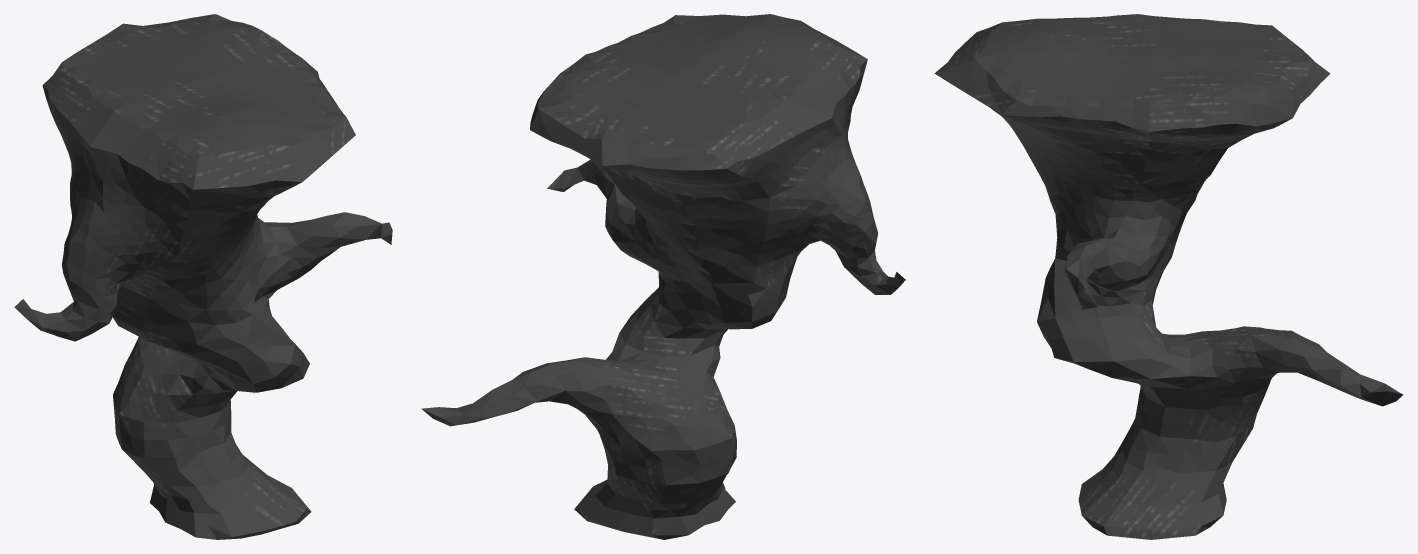
File: Kolonna1.fbx
The picture shows the model from 3 angles, left to right: view 1: azimuth 30°, elevation 25°; view 2: azimuth 150°, elevation 25°; view 3: azimuth 270°, elevation 25°; orthographic projection.
Parts seen in each view (by area): view 1: Cube.001_cell.015, Cube.001_cell.021, Cube.001_cell.020, Cube.001_cell.006, Cube.001_cell.016, Cube.001_cell.013, Cube.001_cell.002, Cube.001_cell.011, Cube.001_cell.028, Cube.001_cell.024, Cube.001_cell.010, Cube.001_cell.014 (+10 smaller); view 2: Cube.001_cell.020, Cube.001_cell.002, Cube.001_cell, Cube.001_cell.013, Cube.001_cell.012, Cube.001_cell.010, Cube.001_cell.029, Cube.001_cell.028, Cube.001_cell.019, Cube.001_cell.023, Cube.001_cell.014, Cube.001_cell.021 (+11 smaller); view 3: Cube.001_cell.020, Cube.001_cell.006, Cube.001_cell.019, Cube.001_cell.001, Cube.001_cell.026, Cube.001_cell.028, Cube.001_cell.016, Cube.001_cell.013, Cube.001_cell.014, Cube.001_cell.024, Cube.001_cell.023, Cube.001_cell.018 (+7 smaller).
Part boxes in pixels (box(x1,y1,x2,y2)): Cube.001_cell.015: box(59, 248, 241, 378); Cube.001_cell.021: box(107, 137, 228, 264); Cube.001_cell.020: box(113, 337, 254, 463); Cube.001_cell.006: box(234, 215, 344, 392); Cube.001_cell.016: box(188, 101, 276, 263); Cube.001_cell.013: box(85, 62, 232, 138); Cube.001_cell.002: box(63, 114, 130, 290); Cube.001_cell.011: box(147, 454, 237, 539); Cube.001_cell.028: box(138, 26, 293, 66); Cube.001_cell.024: box(268, 113, 355, 194); Cube.001_cell.010: box(42, 55, 146, 150); Cube.001_cell.014: box(231, 75, 343, 121); Cube.001_cell.020: box(476, 283, 736, 503); Cube.001_cell.002: box(766, 95, 875, 261); Cube.001_cell: box(633, 227, 793, 329); Cube.001_cell.013: box(672, 47, 816, 124); Cube.001_cell.012: box(628, 174, 772, 249); Cube.001_cell.010: box(661, 108, 790, 194); Cube.001_cell.029: box(595, 113, 739, 191); Cube.001_cell.028: box(552, 58, 672, 128); Cube.001_cell.019: box(574, 445, 692, 539); Cube.001_cell.023: box(530, 80, 611, 152); Cube.001_cell.014: box(628, 19, 737, 62); Cube.001_cell.021: box(812, 41, 867, 162); Cube.001_cell.020: box(1098, 281, 1360, 422); Cube.001_cell.006: box(1037, 193, 1161, 372); Cube.001_cell.019: box(1120, 410, 1254, 537); Cube.001_cell.001: box(1061, 81, 1188, 199); Cube.001_cell.026: box(1116, 52, 1253, 236); Cube.001_cell.028: box(1145, 47, 1286, 132); Cube.001_cell.016: box(950, 22, 1105, 196); Cube.001_cell.013: box(1038, 14, 1216, 63); Cube.001_cell.014: box(1023, 51, 1129, 130); Cube.001_cell.024: box(934, 49, 1065, 140); Cube.001_cell.023: box(1211, 61, 1316, 136); Cube.001_cell.018: box(1081, 486, 1175, 539).
Bounding box in the file's own units: 86.73 × 101 × 95.82.
